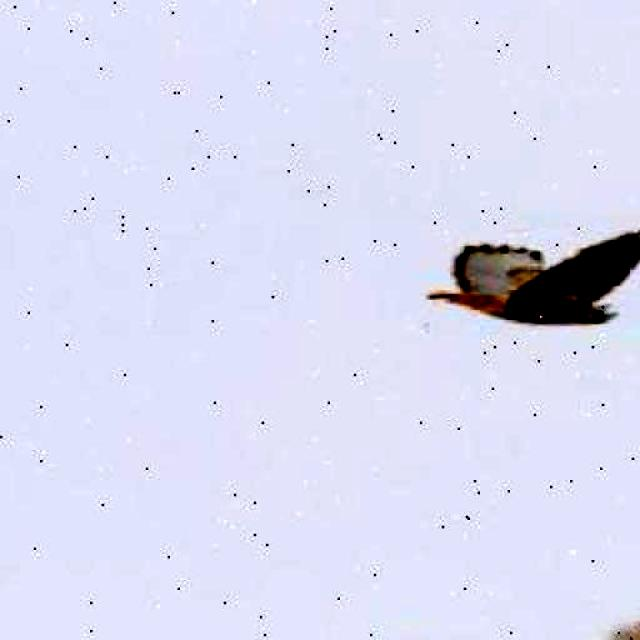airplane: (421, 219, 640, 339)
